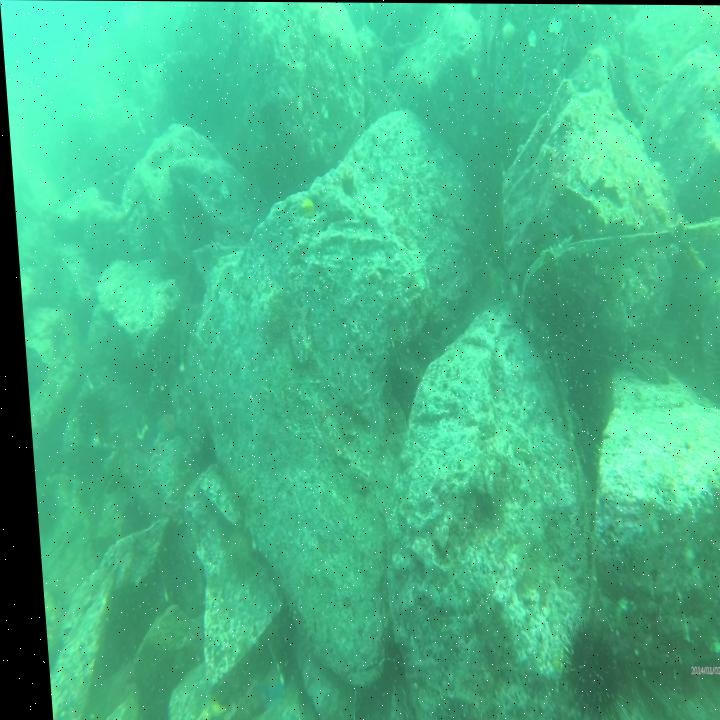echinus: (543, 611, 624, 720), (209, 527, 259, 585), (66, 387, 108, 446)
starfish: (245, 655, 285, 707)
